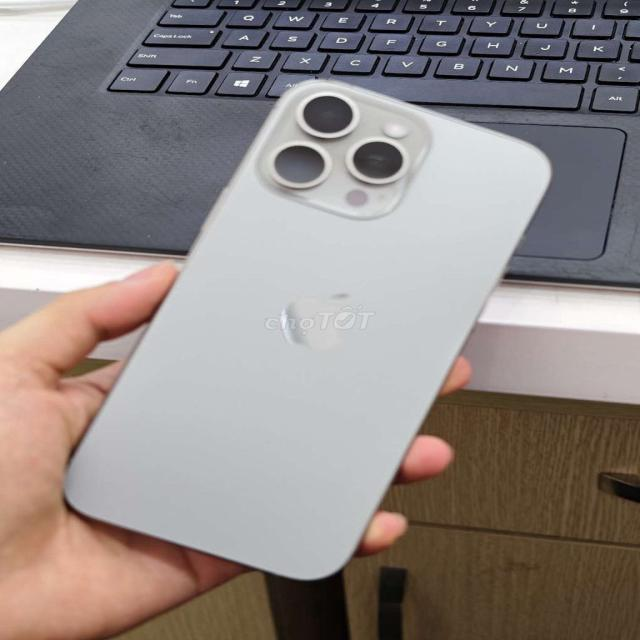gen_16: (66, 80, 551, 579)
